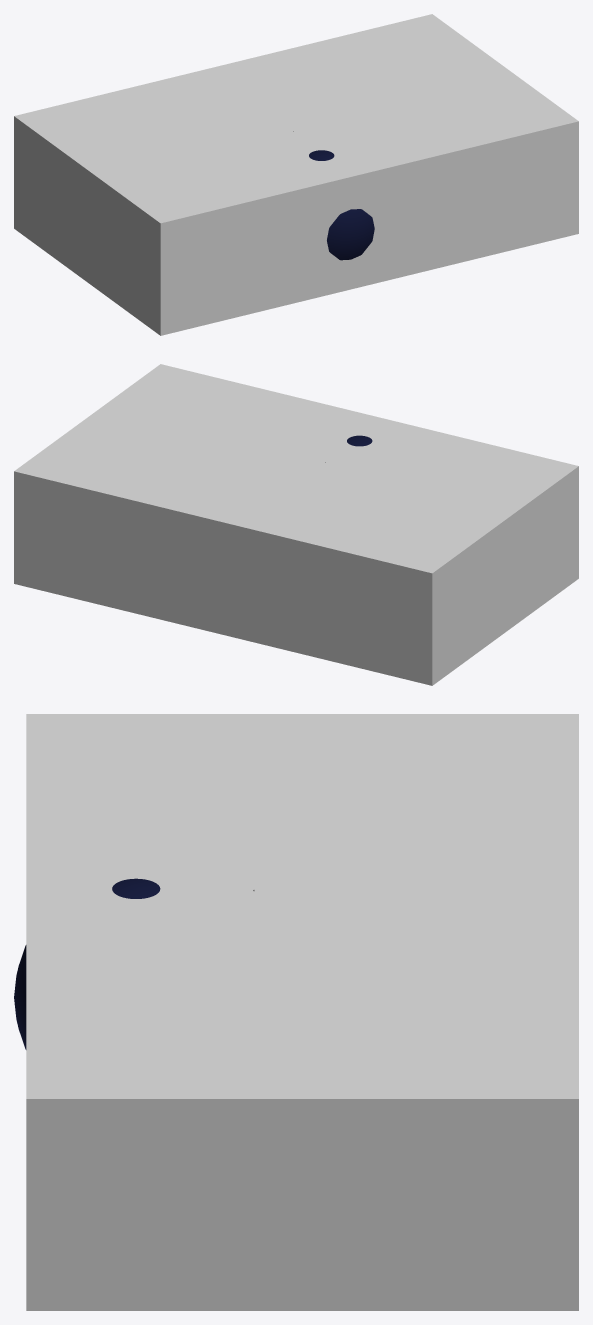
File: 第一ステージ 1.fbx
The picture shows the model from 3 angles, top to bottom: view 1: azimuth 30°, elevation 25°; view 2: azimuth 150°, elevation 25°; view 3: azimuth 270°, elevation 25°; orthographic projection. The views are drawn at different scales.
Visible parts, largest first — view 1: 全体の箱, 球の壁; view 2: 全体の箱; view 3: 全体の箱, 球の壁.
Part boxes in pixels (bbox=[...]): 全体の箱: bbox=[14, 14, 578, 335]; 球の壁: bbox=[309, 150, 374, 260]; 全体の箱: bbox=[14, 364, 578, 685]; 全体の箱: bbox=[26, 714, 578, 1310]; 球の壁: bbox=[14, 878, 160, 1049].
Size of the model in its own units: 6427 by 1725 by 3987.
